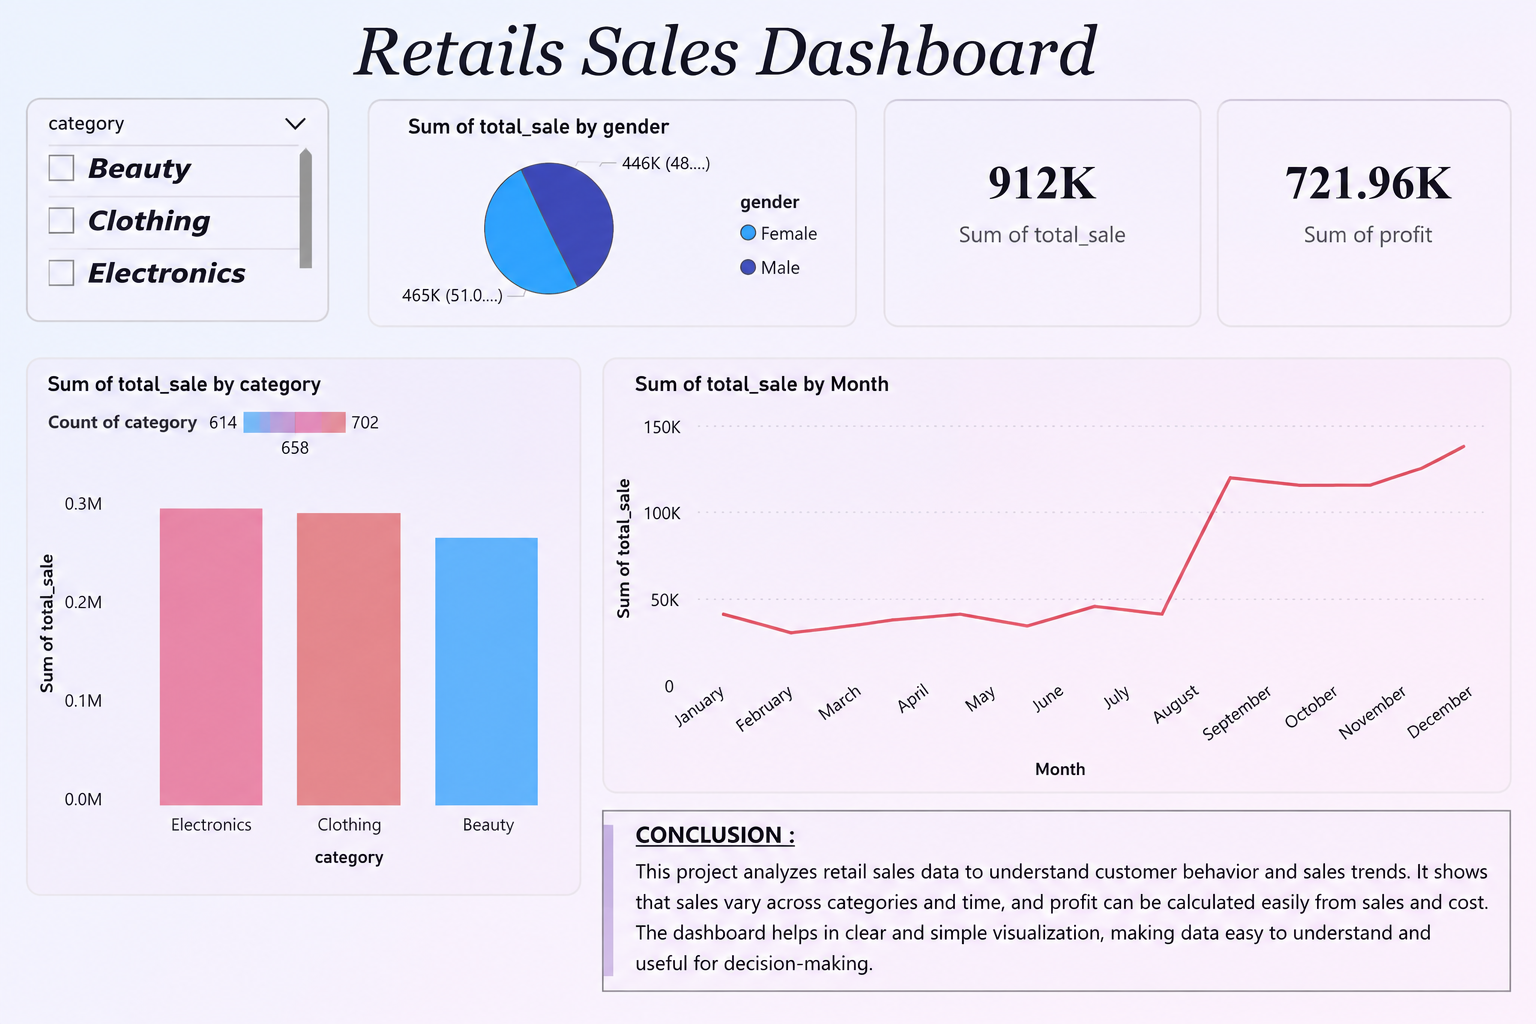

What the dashboard file says about the page in this screenshot:
{"tool":"powerbi","page":{"name":"Page 1","canvas":[1280,720],"ordinal":0},"visuals":[{"type":"textbox","box":[9.6,0,1270.7,116.6],"z":0},{"type":"columnChart","fields":{"Category":["SQL - Retail Sales Analysis_utf.category"],"Y":["Sum(SQL - Retail Sales Analysis_utf.total_sale)"]},"box":[0,245.8,529.5,415.8],"z":1000},{"type":"pieChart","fields":{"Category":["SQL - Retail Sales Analysis_utf.gender"],"Y":["Sum(SQL - Retail Sales Analysis_utf.total_sale)"]},"box":[391.3,58.7,316.7,157.7],"z":2000},{"type":"lineChart","fields":{"Category":["SQL - Retail Sales Analysis_utf.sale_date.Variation.Date Hierarchy.Month"],"Y":["Sum(SQL - Retail Sales Analysis_utf.total_sale)"]},"box":[550.3,229.2,706.7,282.7],"z":3000},{"type":"slicer","fields":{"Values":["SQL - Retail Sales Analysis_utf.category"]},"box":[0,59,242.9,156.4],"z":4000},{"type":"card","fields":{"Values":["Sum(SQL - Retail Sales Analysis_utf.total_sale)"]},"box":[788.7,22,229.9,167.5],"z":5000},{"type":"card","fields":{"Values":["Sum(SQL - Retail Sales Analysis_utf.profit)"]},"box":[1028.4,22,228.7,167.5],"z":6000},{"type":"textbox","box":[550.3,542,706.7,155.1],"z":7000}]}

Visuals, with their boxes on the page's 1280x720 design canvas (x1, y1, x2, y2). These are canvas units, not pixel positions in the 1536x1024 screenshot, which may show the page scaled, cropped or inside an application window:
textbox: <region>10, 0, 1280, 117</region>
columnChart - SQL - Retail Sales Analysis_utf.category x Sum(SQL - Retail Sales Analysis_utf.total_sale): <region>0, 246, 530, 662</region>
pieChart - SQL - Retail Sales Analysis_utf.gender x Sum(SQL - Retail Sales Analysis_utf.total_sale): <region>391, 59, 708, 216</region>
lineChart - SQL - Retail Sales Analysis_utf.sale_date.Variation.Date Hierarchy.Month x Sum(SQL - Retail Sales Analysis_utf.total_sale): <region>550, 229, 1257, 512</region>
slicer - SQL - Retail Sales Analysis_utf.category: <region>0, 59, 243, 215</region>
card - Sum(SQL - Retail Sales Analysis_utf.total_sale): <region>789, 22, 1019, 190</region>
card - Sum(SQL - Retail Sales Analysis_utf.profit): <region>1028, 22, 1257, 190</region>
textbox: <region>550, 542, 1257, 697</region>
